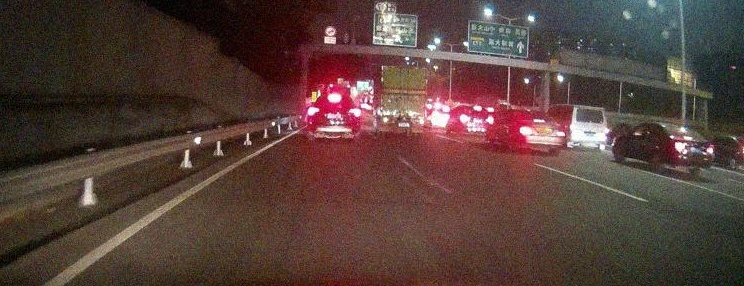L_light: (673, 140, 687, 155), (518, 126, 533, 136), (307, 106, 320, 116), (459, 113, 470, 124), (382, 117, 390, 123)
R_light: (349, 108, 361, 118), (556, 130, 565, 137), (486, 117, 494, 124), (707, 146, 713, 155), (418, 118, 424, 124)
T_light: (328, 97, 341, 102), (533, 118, 545, 123), (473, 106, 482, 111), (684, 135, 694, 139), (399, 66, 407, 69)
night-brake: (303, 90, 362, 139), (515, 107, 566, 154), (458, 103, 495, 135)
night-left: (660, 123, 714, 171)
night-no: (375, 64, 426, 138)
